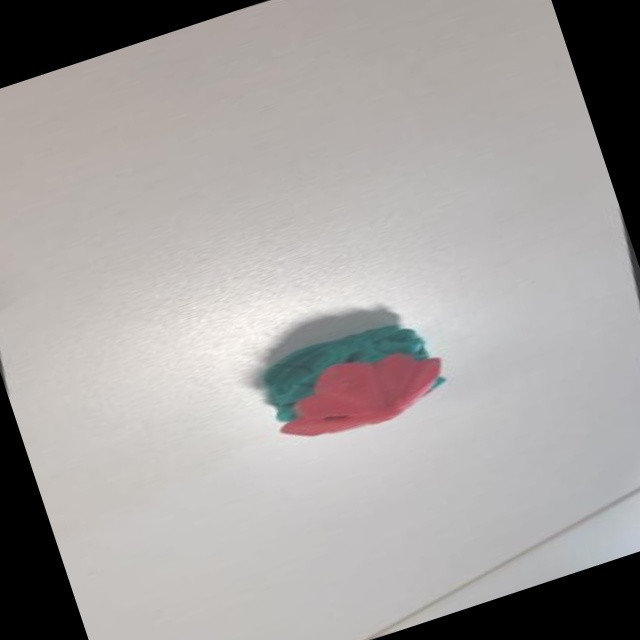House: (228, 297, 467, 470)
